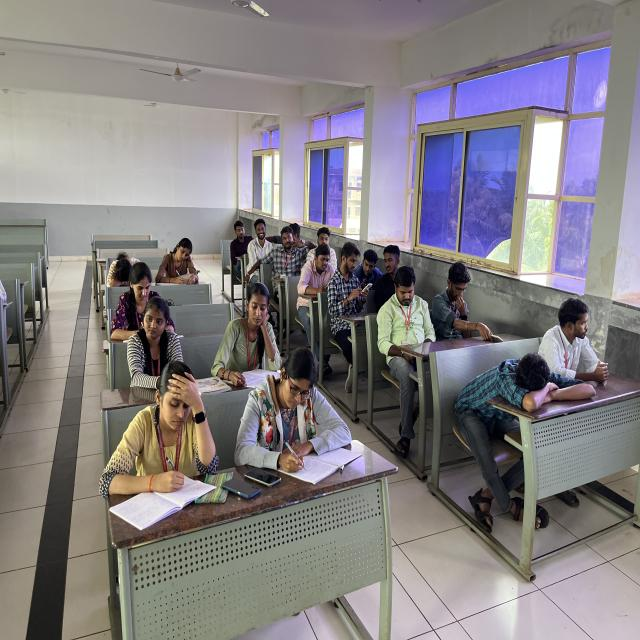Reading: (212, 281, 291, 394), (117, 261, 153, 333)
Sleeping: (108, 252, 146, 289)
Using Phone: (449, 348, 594, 445), (434, 258, 506, 344), (376, 263, 436, 366), (328, 239, 373, 316), (299, 244, 336, 301)
Writing: (236, 348, 360, 474), (155, 235, 203, 284)
